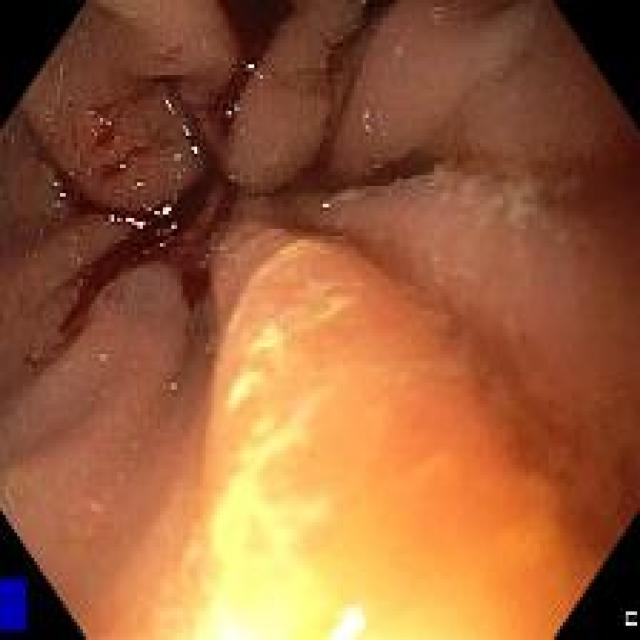blood: (19, 117, 240, 350), (274, 47, 443, 195), (213, 4, 293, 141)
blur: (384, 314, 623, 593)
color misalignment: (4, 574, 28, 632), (625, 611, 639, 629)
saturation: (197, 602, 369, 640)
specularity: (109, 217, 145, 229), (156, 209, 172, 217), (167, 101, 174, 115), (245, 64, 256, 71), (192, 145, 199, 155), (183, 128, 191, 136)
